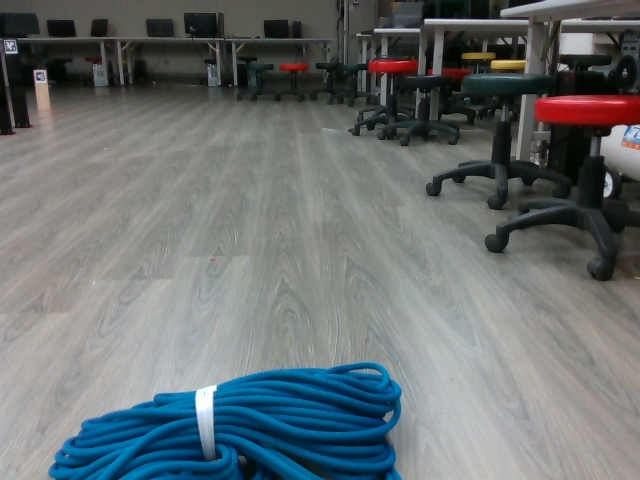rope: (42, 357, 407, 480)
